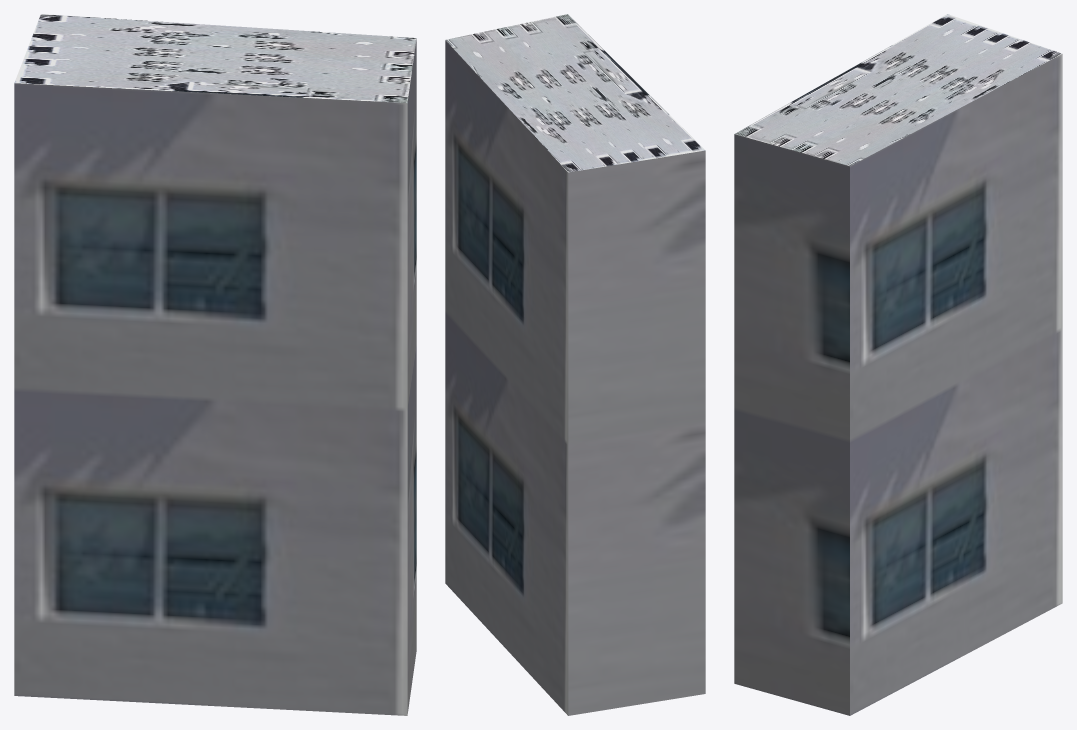
File: ResTex__1106.fbx
The picture shows the model from 3 angles, left to right: view 1: azimuth 30°, elevation 25°; view 2: azimuth 150°, elevation 25°; view 3: azimuth 270°, elevation 25°; orthographic projection. The views are drawn at different scales.
Visible parts, largest first — view 1: CityEngineMaterial_10_m, CityEngineMaterial_8_m; view 2: CityEngineMaterial_10_m, CityEngineMaterial_8_m; view 3: CityEngineMaterial_10_m, CityEngineMaterial_8_m.
Boxes of the visible parts, x1,y1,x2,y2 form: CityEngineMaterial_10_m: (14, 39, 416, 715); CityEngineMaterial_8_m: (14, 14, 416, 103); CityEngineMaterial_10_m: (445, 40, 705, 715); CityEngineMaterial_8_m: (445, 14, 705, 172); CityEngineMaterial_10_m: (734, 54, 1062, 715); CityEngineMaterial_8_m: (735, 14, 1062, 166).
Size of the model in its own units: 3.57 by 6 by 3.25.
2 materials, 2 textured.
